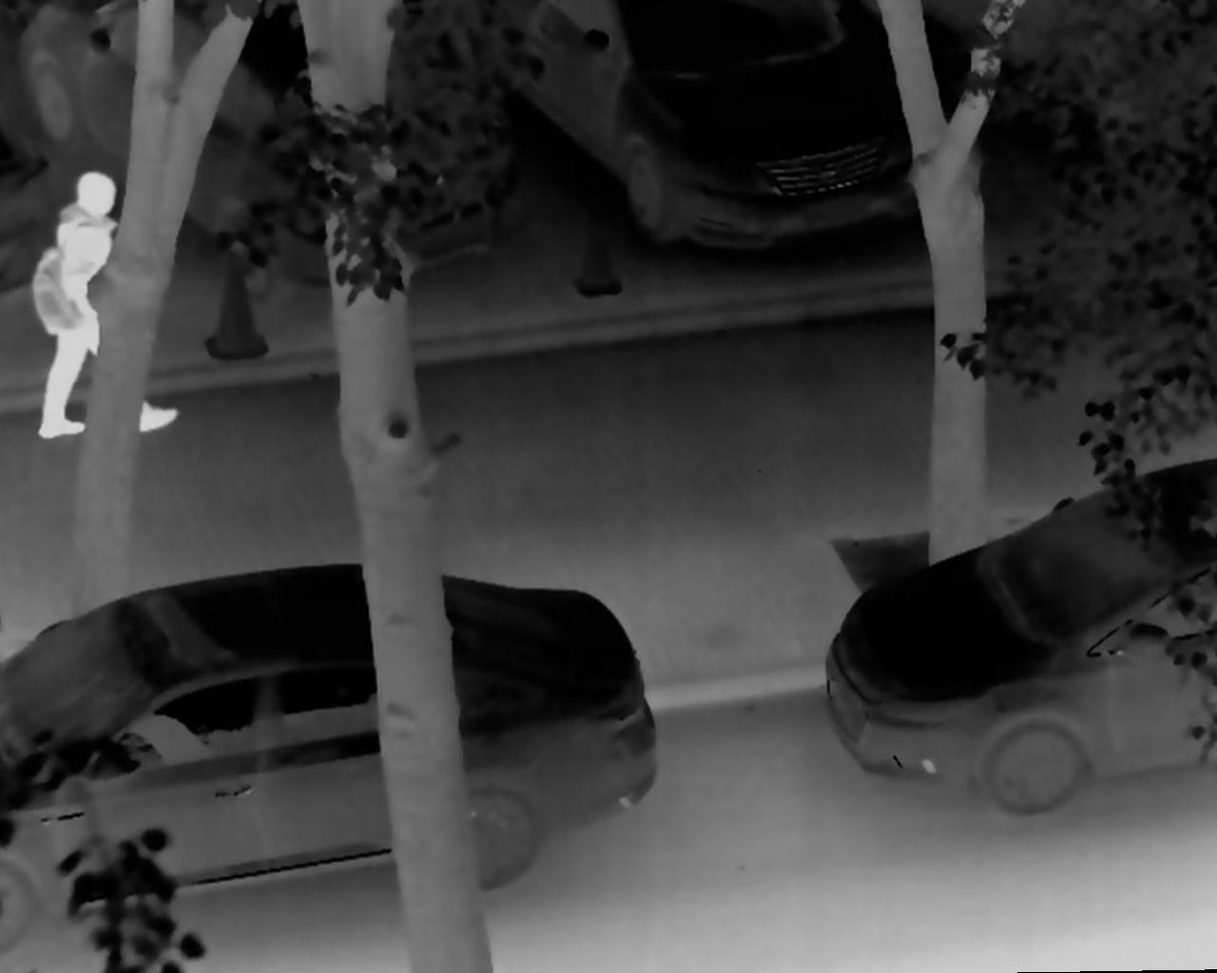person: (30, 170, 178, 442)
